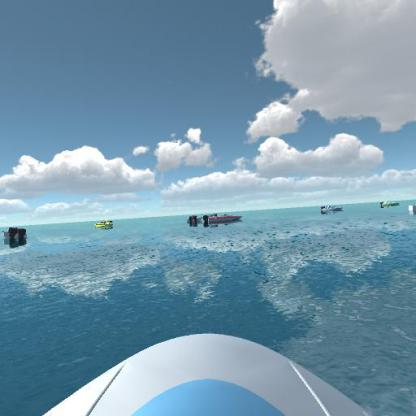usv0: (378, 196, 402, 210)
usv1: (0, 221, 35, 247), (318, 203, 346, 218), (182, 212, 204, 228)
usv2: (92, 214, 116, 233)
usv3: (200, 208, 246, 227)
